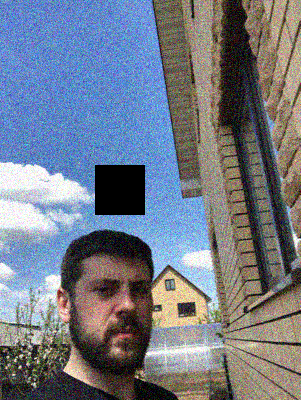without_mask: (85, 270, 154, 373)
